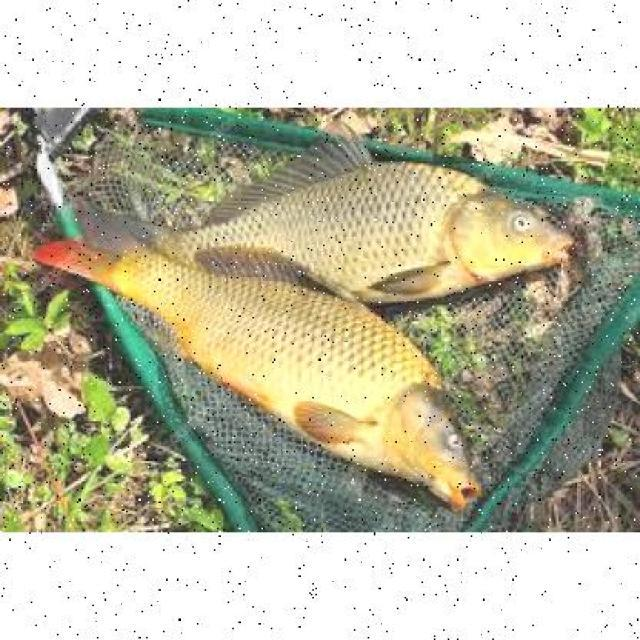ikan-mas: (38, 240, 484, 506), (132, 144, 572, 290)
